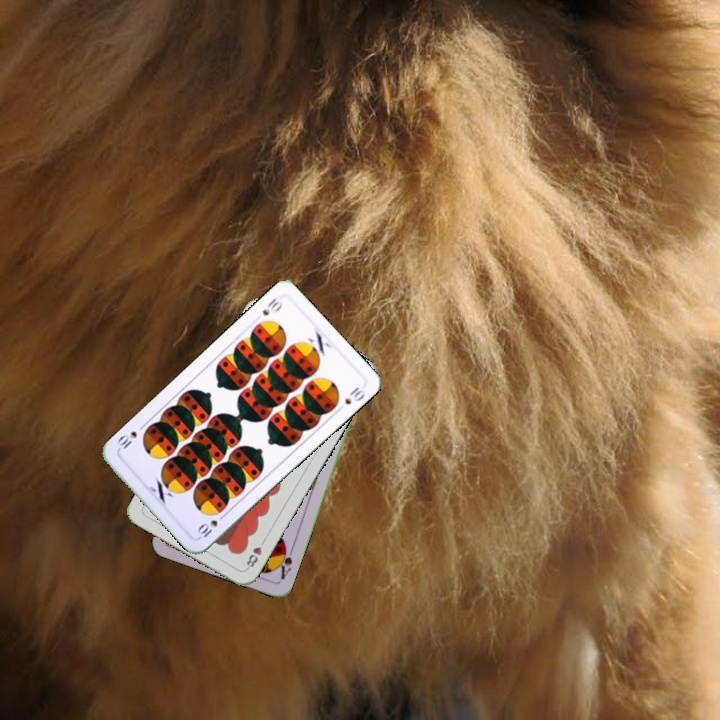H8: (242, 535, 268, 572)
S10: (193, 510, 228, 540), (258, 294, 285, 318)
SA: (273, 542, 296, 582)
